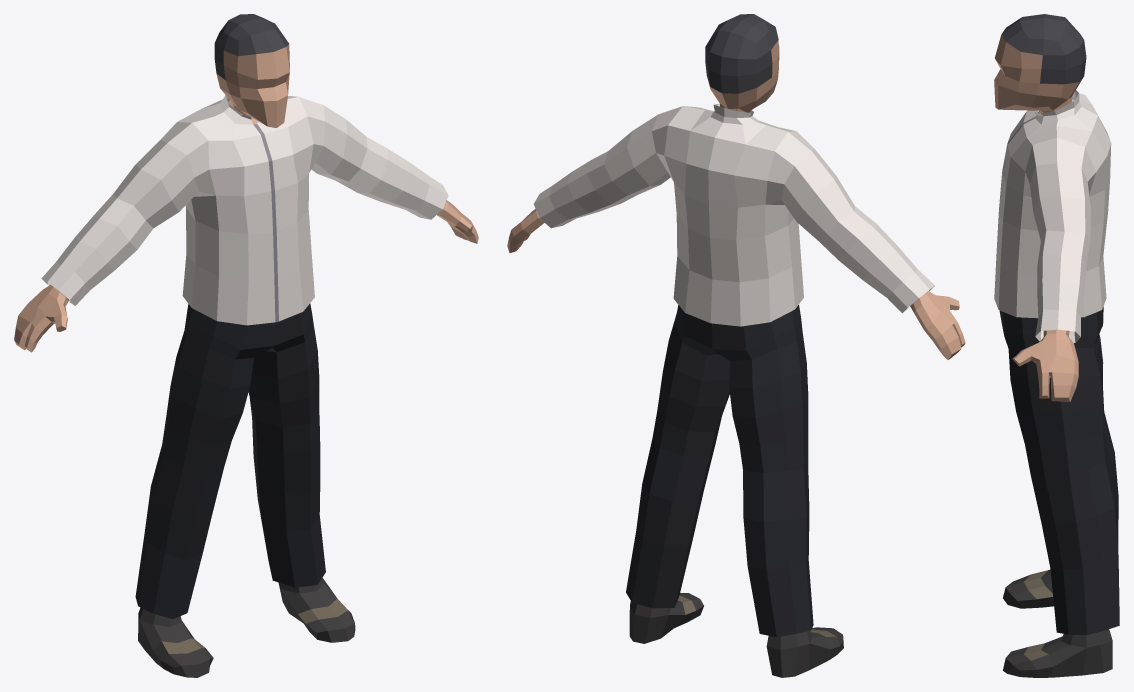
Rendered from Man03.fbx.
3 renders of one model, left to right at view 1: azimuth 30°, elevation 25°; view 2: azimuth 150°, elevation 25°; view 3: azimuth 270°, elevation 25°, orthographic.
Visible parts, largest first — view 1: clothes, pants, base, shoes; view 2: clothes, pants, base, shoes; view 3: clothes, pants, base, shoes.
Boxes of the visible parts, left/top/right/bottom form: clothes: left=41, top=95, right=448, bottom=325; pants: left=135, top=303, right=325, bottom=619; base: left=14, top=14, right=478, bottom=352; shoes: left=138, top=578, right=355, bottom=677; clothes: left=534, top=104, right=934, bottom=326; pants: left=626, top=305, right=813, bottom=637; base: left=507, top=14, right=965, bottom=359; shoes: left=629, top=593, right=843, bottom=677; clothes: left=994, top=90, right=1111, bottom=342; pants: left=999, top=306, right=1119, bottom=635; base: left=994, top=14, right=1086, bottom=402; shoes: left=1003, top=569, right=1112, bottom=677.
Bounding box in the file's own units: 1.49 × 1.95 × 0.3604.
